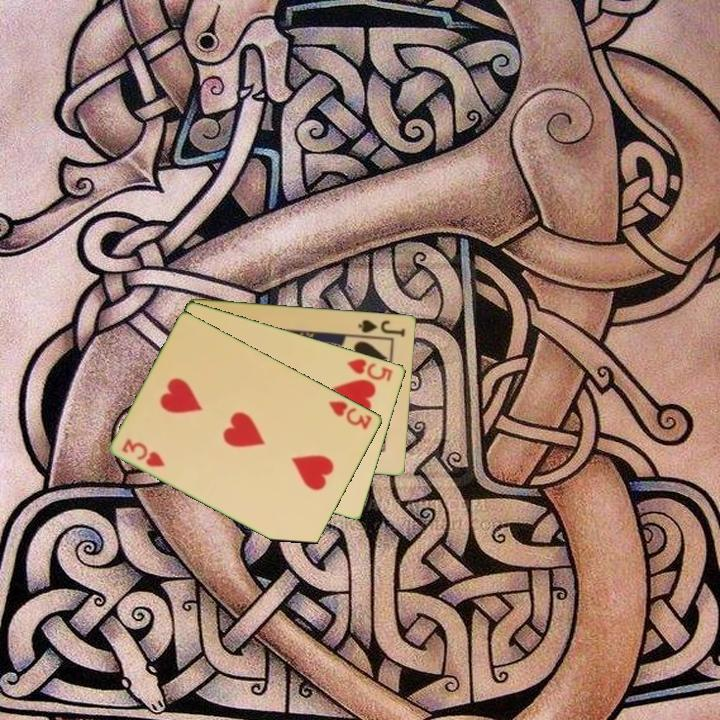3h: (326, 397, 375, 432), (119, 435, 168, 470)
5h: (344, 355, 396, 384)
Js: (355, 316, 408, 339)
